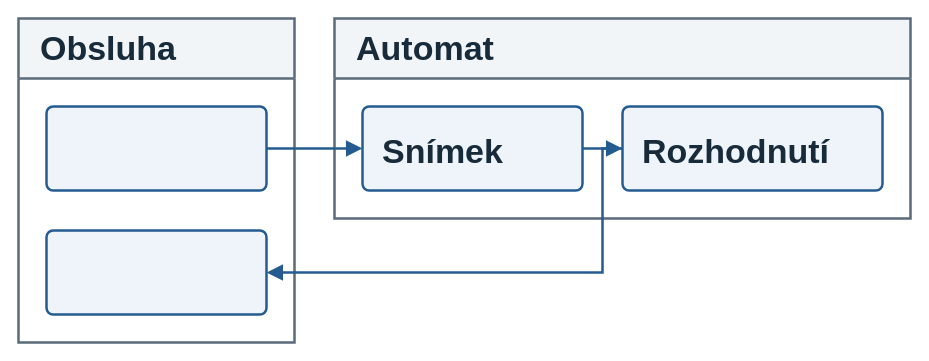
Some shapes in this 929 by 361 pixel diagram are drawn without their labels. The centre of each missing label's shape, as x and y in pixels:
"Potvrzení" belongs at (156,272).
"Zadání" belongs at (156,148).
